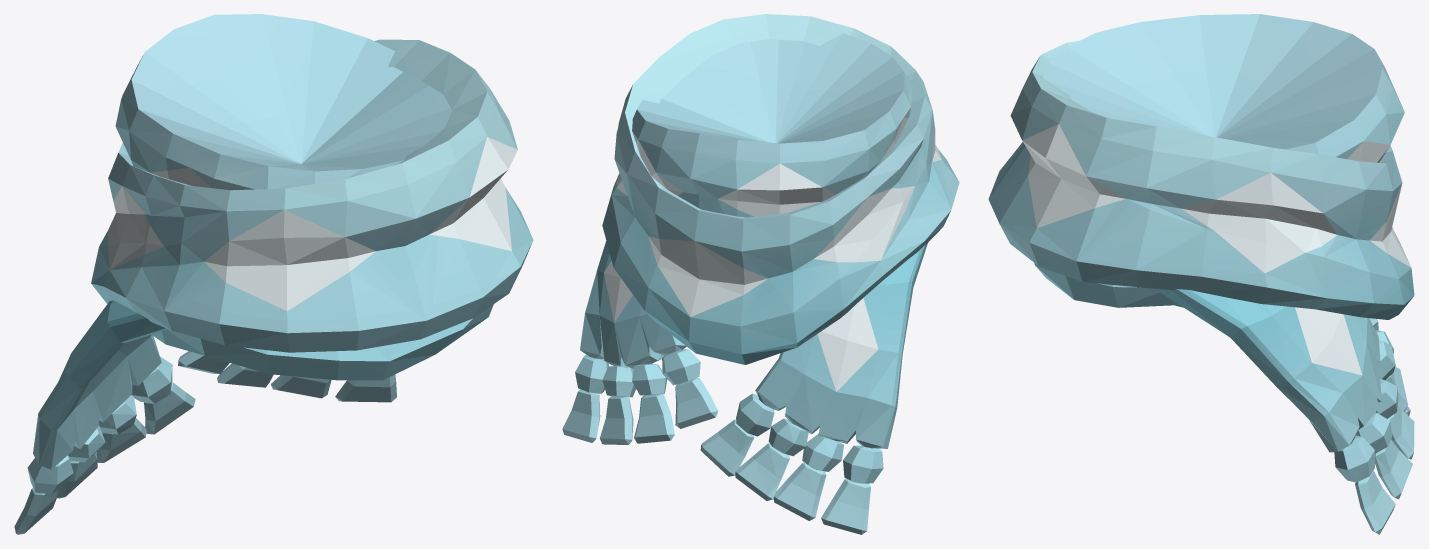
File: CharSkyKid_Neck_WinterScarfBlue.glb
The picture shows the model from 3 angles, left to right: view 1: azimuth 30°, elevation 25°; view 2: azimuth 150°, elevation 25°; view 3: azimuth 270°, elevation 25°; orthographic projection. The views are drawn at different scales.
Visible parts, largest first — view 1: CharSkyKid_Neck_WinterScarfBlue; view 2: CharSkyKid_Neck_WinterScarfBlue; view 3: CharSkyKid_Neck_WinterScarfBlue.
Part boxes in pixels (x1=…): CharSkyKid_Neck_WinterScarfBlue: x1=14, y1=14, x2=533, y2=534; CharSkyKid_Neck_WinterScarfBlue: x1=562, y1=14, x2=959, y2=534; CharSkyKid_Neck_WinterScarfBlue: x1=988, y1=14, x2=1414, y2=534.
Bounding box in the file's own units: 3.04 × 3.47 × 3.13.
1 material, 1 textured.
